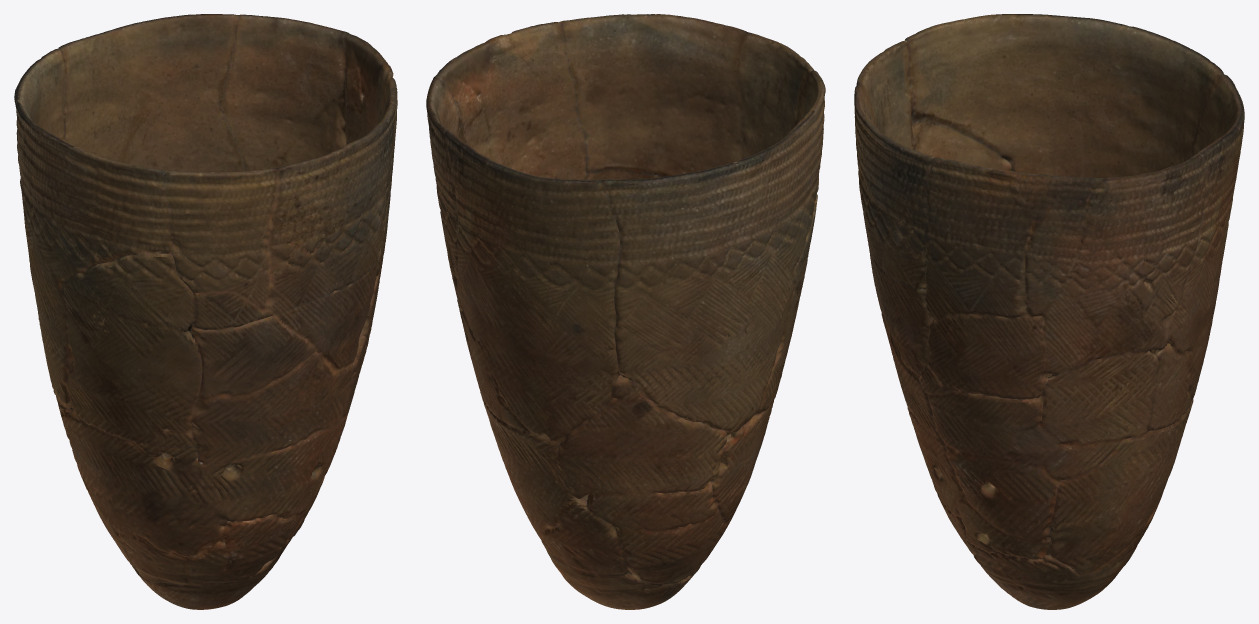
Rendered from comb-pattern-pottery.glb.
3 renders of one model, left to right at view 1: azimuth 30°, elevation 25°; view 2: azimuth 150°, elevation 25°; view 3: azimuth 270°, elevation 25°, orthographic.
Visible parts, largest first — view 1: ssu022891-001-30000; view 2: ssu022891-001-30000; view 3: ssu022891-001-30000.
Boxes of the visible parts, left/top/right/bottom form: ssu022891-001-30000: left=14, top=14, right=397, bottom=609; ssu022891-001-30000: left=426, top=14, right=825, bottom=609; ssu022891-001-30000: left=854, top=14, right=1244, bottom=609.
Bounding box in the file's own units: 0.9872 × 1.43 × 0.9906.
Materials: 1 (1 with a texture image).
